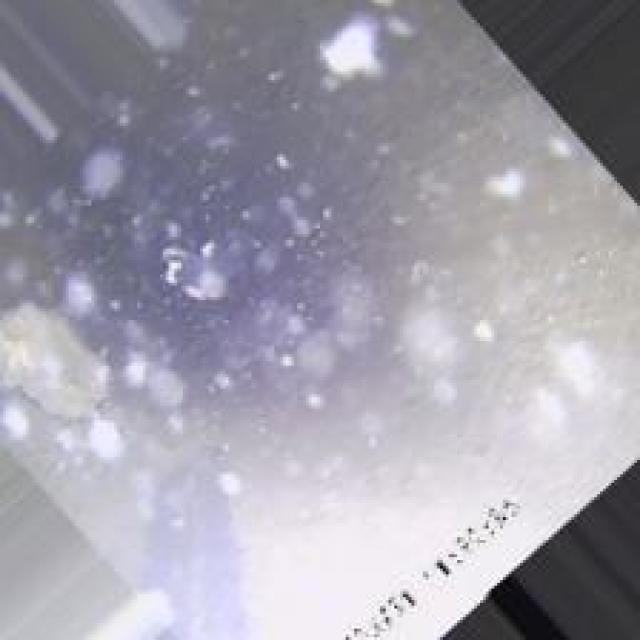stone: (6, 300, 111, 423)
